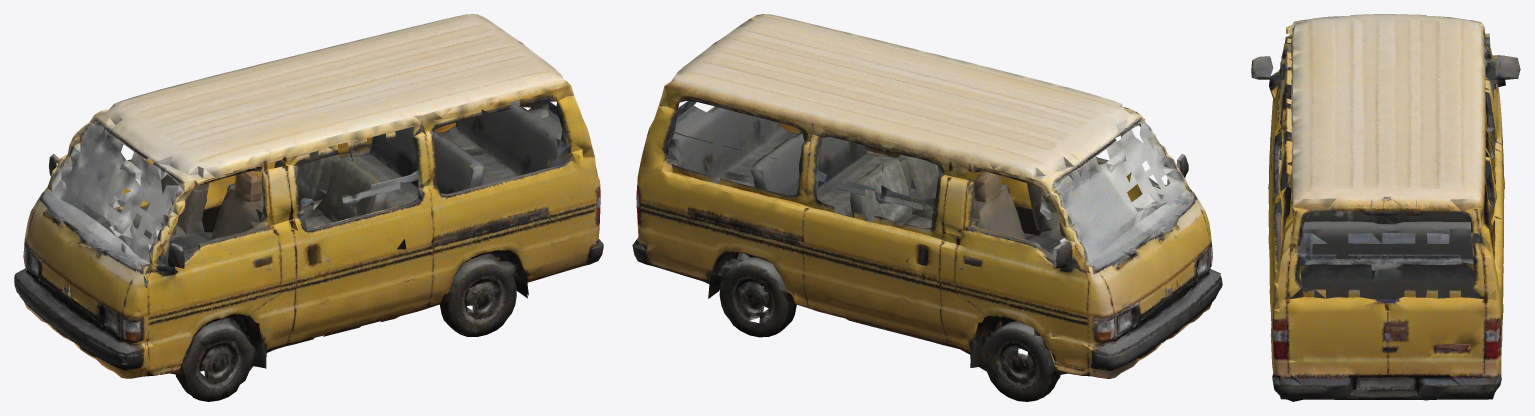
Rendered from yellowvan.glb.
3 views of the same model, side by side, from view 1: azimuth 30°, elevation 25°; view 2: azimuth 150°, elevation 25°; view 3: azimuth 270°, elevation 25° (orthographic).
Size of the model in its own units: 0.9753 by 0.4515 by 0.4524.
1 material, 1 textured.
